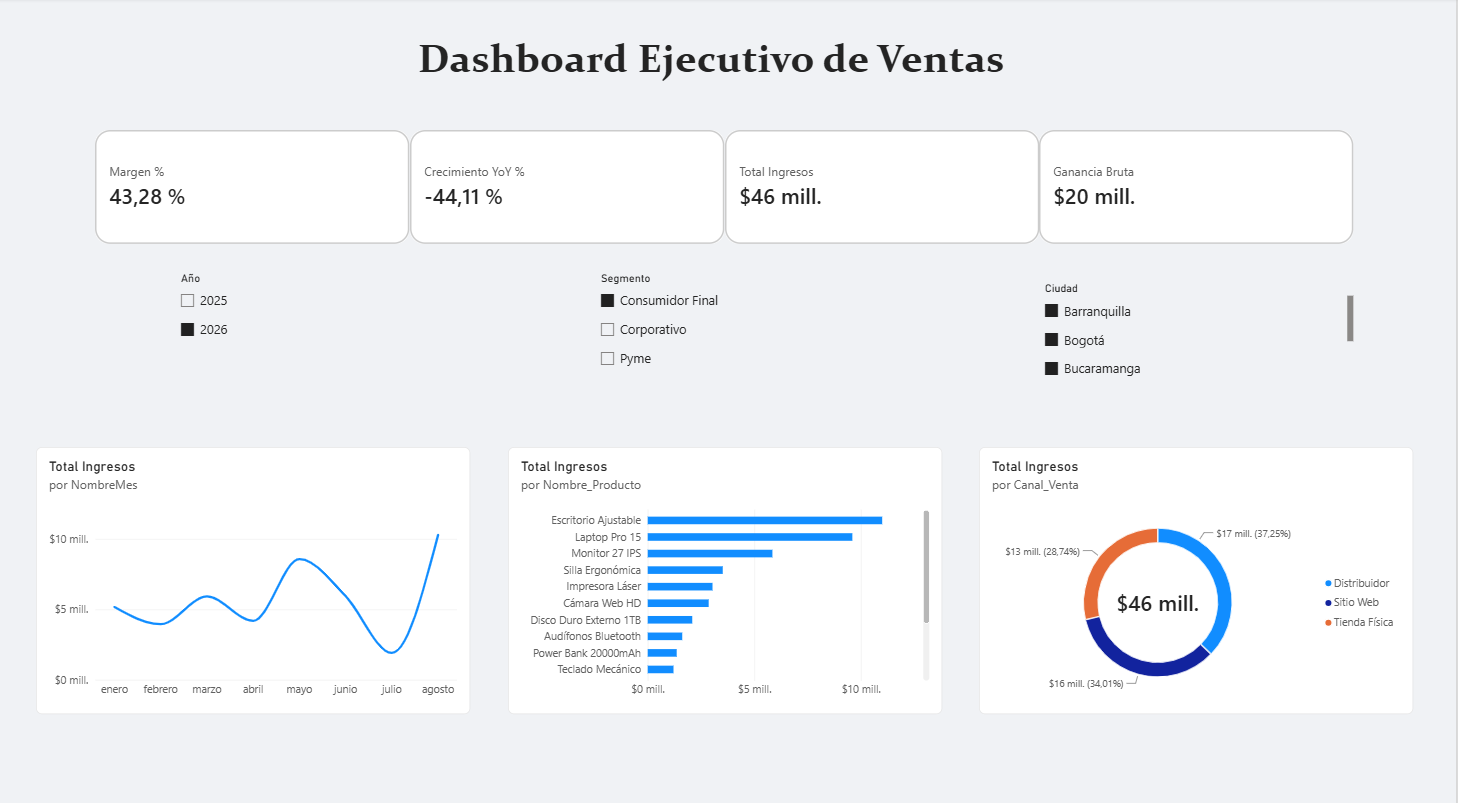

What the dashboard file says about the page in this screenshot:
{"tool":"powerbi","page":{"name":"Página 1","canvas":[1920,1080],"ordinal":0},"visuals":[{"type":"textbox","box":[552.9,46.7,808.3,65.7],"z":0},{"type":"slicer","fields":{"Values":["Dim_Calendario.Año"]},"box":[233.4,360.4,309.3,150.3],"z":1},{"type":"slicer","fields":{"Values":["Dim_Clientes.Segmento"]},"box":[786.4,360.4,414,150],"z":2},{"type":"slicer","fields":{"Values":["Dim_Clientes.Ciudad"]},"box":[1371.4,373.5,414.3,125.5],"z":3},{"type":"cardVisual","fields":{"Data":["_Medidas.Crecimiento YoY %"]},"box":[542.7,173.6,414,150],"z":4},{"type":"cardVisual","fields":{"Data":["_Medidas.Total Ingresos"]},"box":[957.1,173.6,414.3,150.3],"z":5},{"type":"cardVisual","fields":{"Data":["_Medidas.Margen %"]},"box":[128.4,173.6,414.3,150.3],"z":6},{"type":"cardVisual","fields":{"Data":["_Medidas.Ganancia Bruta"]},"box":[1371.4,173.6,414.3,150.3],"z":7},{"type":"lineChart","fields":{"Category":["Dim_Calendario.NombreMes"],"Y":["_Medidas.Total Ingresos"]},"box":[49.6,590.9,571.9,351.6],"z":8},{"type":"clusteredBarChart","fields":{"Category":["Dim_Productos.Nombre_Producto"],"Y":["_Medidas.Total Ingresos"]},"box":[671.1,590.9,571.9,351.6],"z":9},{"type":"donutChart","fields":{"Category":["Fact_Ventas.Canal_Venta"],"Y":["_Medidas.Total Ingresos"]},"box":[1292.6,590.9,571.9,351.6],"z":10}]}

Visuals, with their boxes in screenshot pixels (x1, y1, x2, y2), scaled from the page's 1920x1080 canvas onto the 1458x803 screenshot:
textbox: 420:35:1034:84
slicer - Dim_Calendario.Año: 177:268:412:380
slicer - Dim_Clientes.Segmento: 597:268:912:379
slicer - Dim_Clientes.Ciudad: 1041:278:1356:371
cardVisual - _Medidas.Crecimiento YoY %: 412:129:726:241
cardVisual - _Medidas.Total Ingresos: 727:129:1041:241
cardVisual - _Medidas.Margen %: 98:129:412:241
cardVisual - _Medidas.Ganancia Bruta: 1041:129:1356:241
lineChart - Dim_Calendario.NombreMes x _Medidas.Total Ingresos: 38:439:472:701
clusteredBarChart - Dim_Productos.Nombre_Producto x _Medidas.Total Ingresos: 510:439:944:701
donutChart - Fact_Ventas.Canal_Venta x _Medidas.Total Ingresos: 982:439:1416:701
